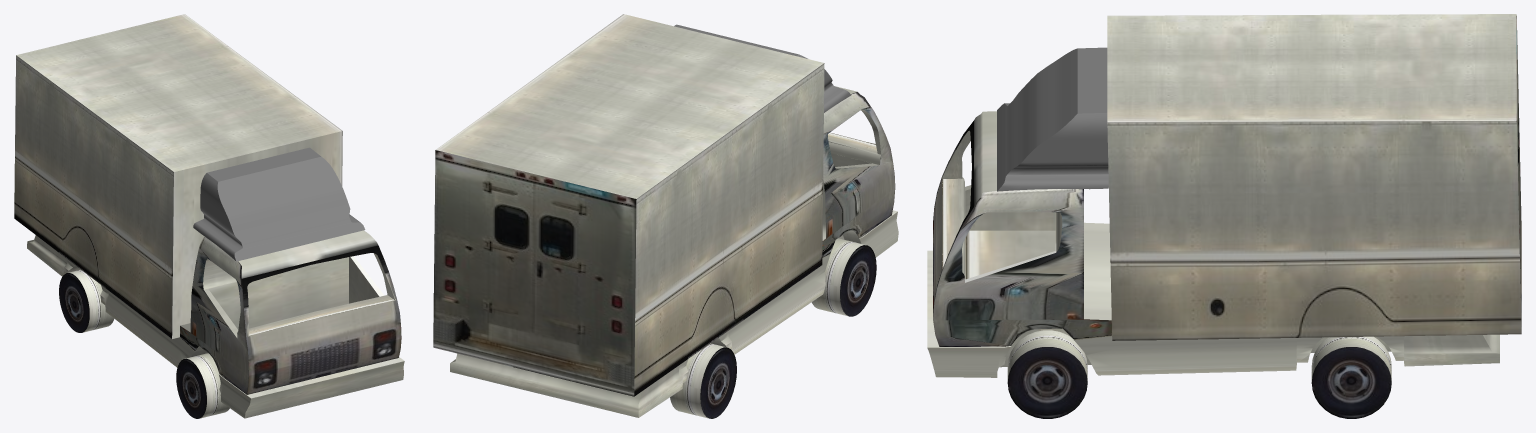
The model's file is lastebil.fbx.
3 views of the same model, side by side, from view 1: azimuth 30°, elevation 25°; view 2: azimuth 150°, elevation 25°; view 3: azimuth 270°, elevation 25° (orthographic). The views are drawn at different scales.
Visible parts, largest first — view 1: lasten, trucken, hodepåfronten, hjul, hjul3; view 2: lasten, trucken, hjul, hjul3, hodepåfronten; view 3: lasten, trucken, hodepåfronten, hjul1, hjul2.
Boxes of the visible parts, <box> form: lasten: <box>14,14,342,338</box>; trucken: <box>27,230,404,418</box>; hodepåfronten: <box>193,147,365,261</box>; hjul: <box>176,353,229,418</box>; hjul3: <box>59,269,113,332</box>; lasten: <box>433,14,824,396</box>; trucken: <box>450,86,898,417</box>; hjul: <box>811,238,876,316</box>; hjul3: <box>670,343,736,418</box>; hodepåfronten: <box>674,24,851,112</box>; lasten: <box>1107,14,1521,340</box>; trucken: <box>927,111,1499,377</box>; hodepåfronten: <box>997,47,1108,191</box>; hjul1: <box>1007,330,1087,418</box>; hjul2: <box>1311,336,1391,418</box>.
Size of the model in its own units: 24.99 by 30.41 by 55.47.
3 materials, 3 textured.
